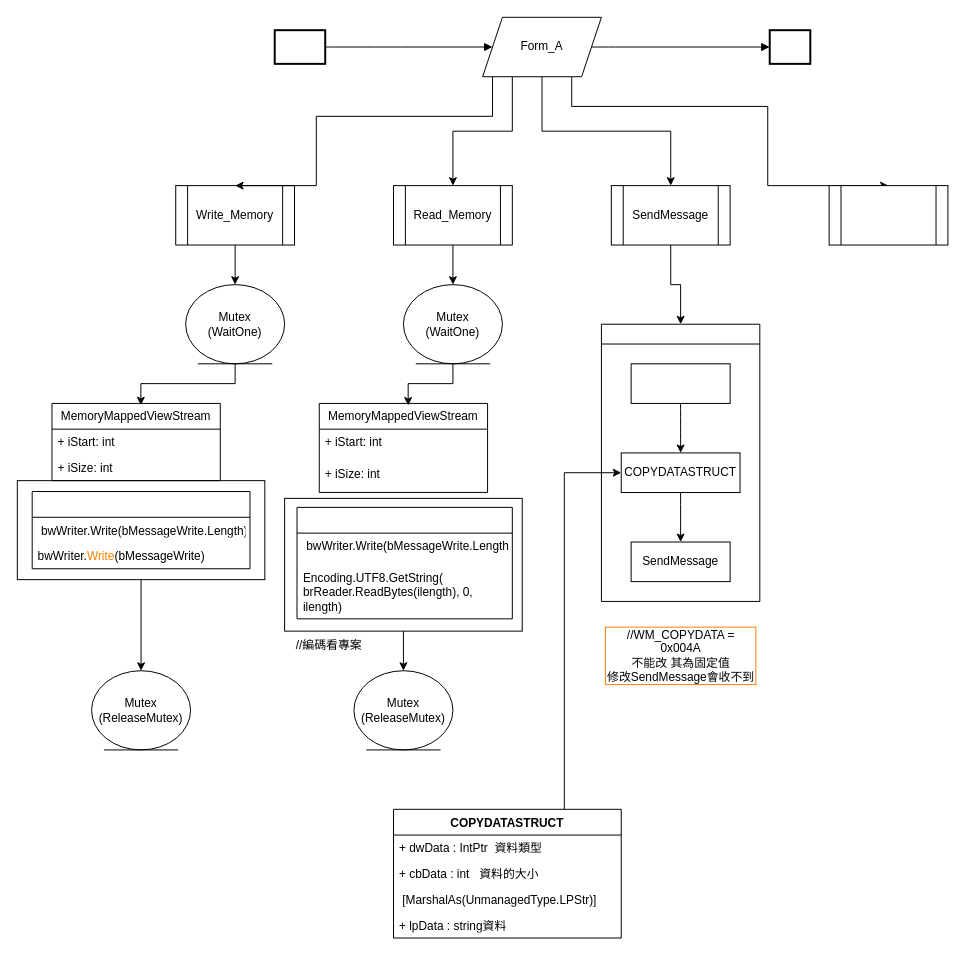
The diagram is 965 pixels wide and 958 high, and some of its shapes have lost their labels. Here are the shapes that lost their labels. From the top down, the box of each, then its label:
(273, 29, 326, 64): Start
(768, 29, 811, 64): End
(828, 185, 948, 245): WriteMessage SendMessage
(630, 363, 730, 403): FormB
(600, 323, 760, 601): FindWindow
(31, 491, 250, 569): BinaryWriter
(296, 506, 512, 619): BinaryReader
